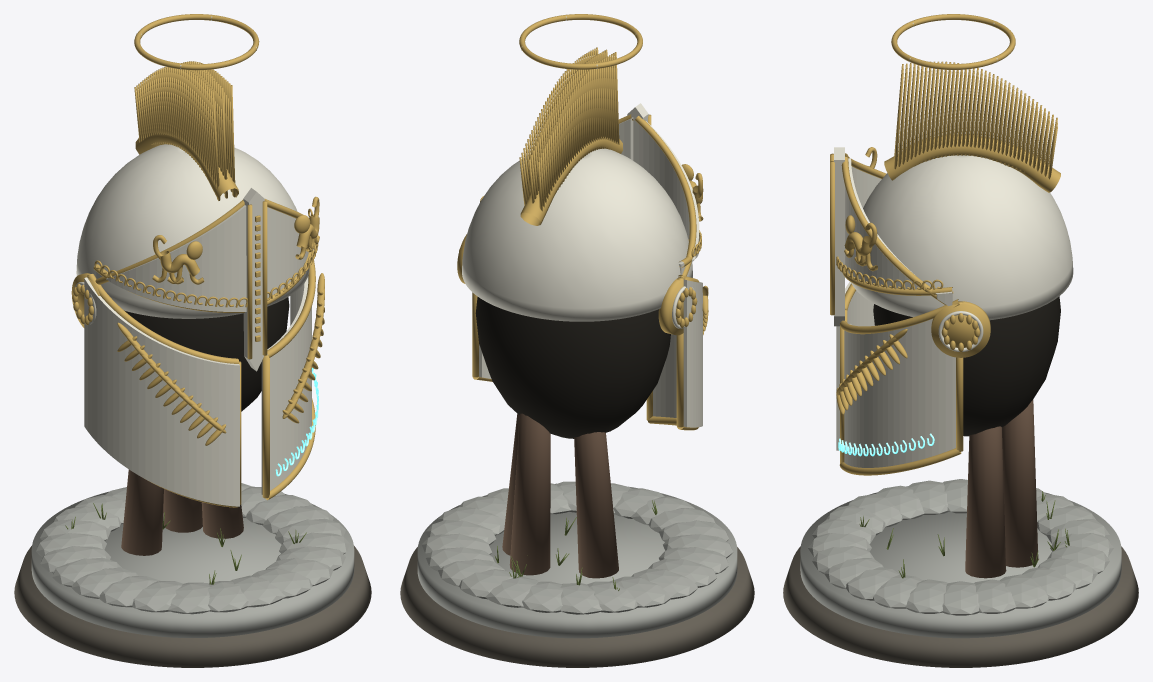
3 views of the same model, side by side, from view 1: azimuth 30°, elevation 25°; view 2: azimuth 150°, elevation 25°; view 3: azimuth 270°, elevation 25° (orthographic).
Visible parts, largest first — view 1: long flared cheek guard, stone platform, ivory domed helmet shell, circular beveled pedestal, raised ivory forehead plate, long flared cheek guard.001, dark recessed inner lining, helmet display timber, raised ivory forehead plate.001, tall pointed nasal, floating crown halo, helmet display timber.001 (+29 smaller); view 2: ivory domed helmet shell, dark recessed inner lining, stone platform, circular beveled pedestal, helmet display timber.001, helmet display timber, long flared cheek guard, raised ivory forehead plate, floating crown halo, crest seat, gold brow border.001, uneven stone paver.009 (+22 smaller); view 3: ivory domed helmet shell, stone platform, long flared cheek guard.001, circular beveled pedestal, dark recessed inner lining, helmet display timber.002, helmet display timber.001, crest seat, raised ivory forehead plate.001, ear roundel.001, floating crown halo, tall pointed nasal (+30 smaller).
Boxes of the visible parts, <box> form: long flared cheek guard: <box>84,277,239,506</box>; stone platform: <box>31,486,354,637</box>; ivory domed helmet shell: <box>76,144,309,318</box>; circular beveled pedestal: <box>14,546,371,667</box>; raised ivory forehead plate: <box>96,205,246,311</box>; long flared cheek guard.001: <box>261,276,311,494</box>; dark recessed inner lining: <box>124,297,289,411</box>; helmet display timber: <box>121,469,163,555</box>; raised ivory forehead plate.001: <box>267,207,308,297</box>; tall pointed nasal: <box>243,188,264,371</box>; floating crown halo: <box>134,14,259,70</box>; helmet display timber.001: <box>163,489,202,532</box>; ivory domed helmet shell: <box>462,148,692,321</box>; dark recessed inner lining: <box>475,297,670,438</box>; stone platform: <box>417,483,737,638</box>; circular beveled pedestal: <box>400,547,754,667</box>; helmet display timber.001: <box>509,413,550,575</box>; helmet display timber: <box>574,432,618,578</box>; long flared cheek guard: <box>653,279,702,427</box>; raised ivory forehead plate: <box>639,121,699,274</box>; floating crown halo: <box>519,14,642,69</box>; crest seat: <box>520,137,622,225</box>; gold brow border.001: <box>635,116,696,276</box>; uneven stone paver.009: <box>587,581,637,612</box>; ivory domed helmet shell: <box>851,155,1073,320</box>; stone platform: <box>800,486,1121,638</box>; long flared cheek guard.001: <box>844,319,955,467</box>; circular beveled pedestal: <box>783,546,1138,667</box>; dark recessed inner lining: <box>873,296,1060,436</box>; helmet display timber.002: <box>965,426,1006,578</box>; helmet display timber.001: <box>1002,399,1038,567</box>; crest seat: <box>884,134,1060,192</box>; raised ivory forehead plate.001: <box>845,158,952,306</box>; ear roundel.001: <box>931,301,990,357</box>; floating crown halo: <box>891,14,1015,69</box>; tall pointed nasal: <box>834,147,844,326</box>.
Size of the model in its own units: 0.5825 by 1 by 0.5825.
